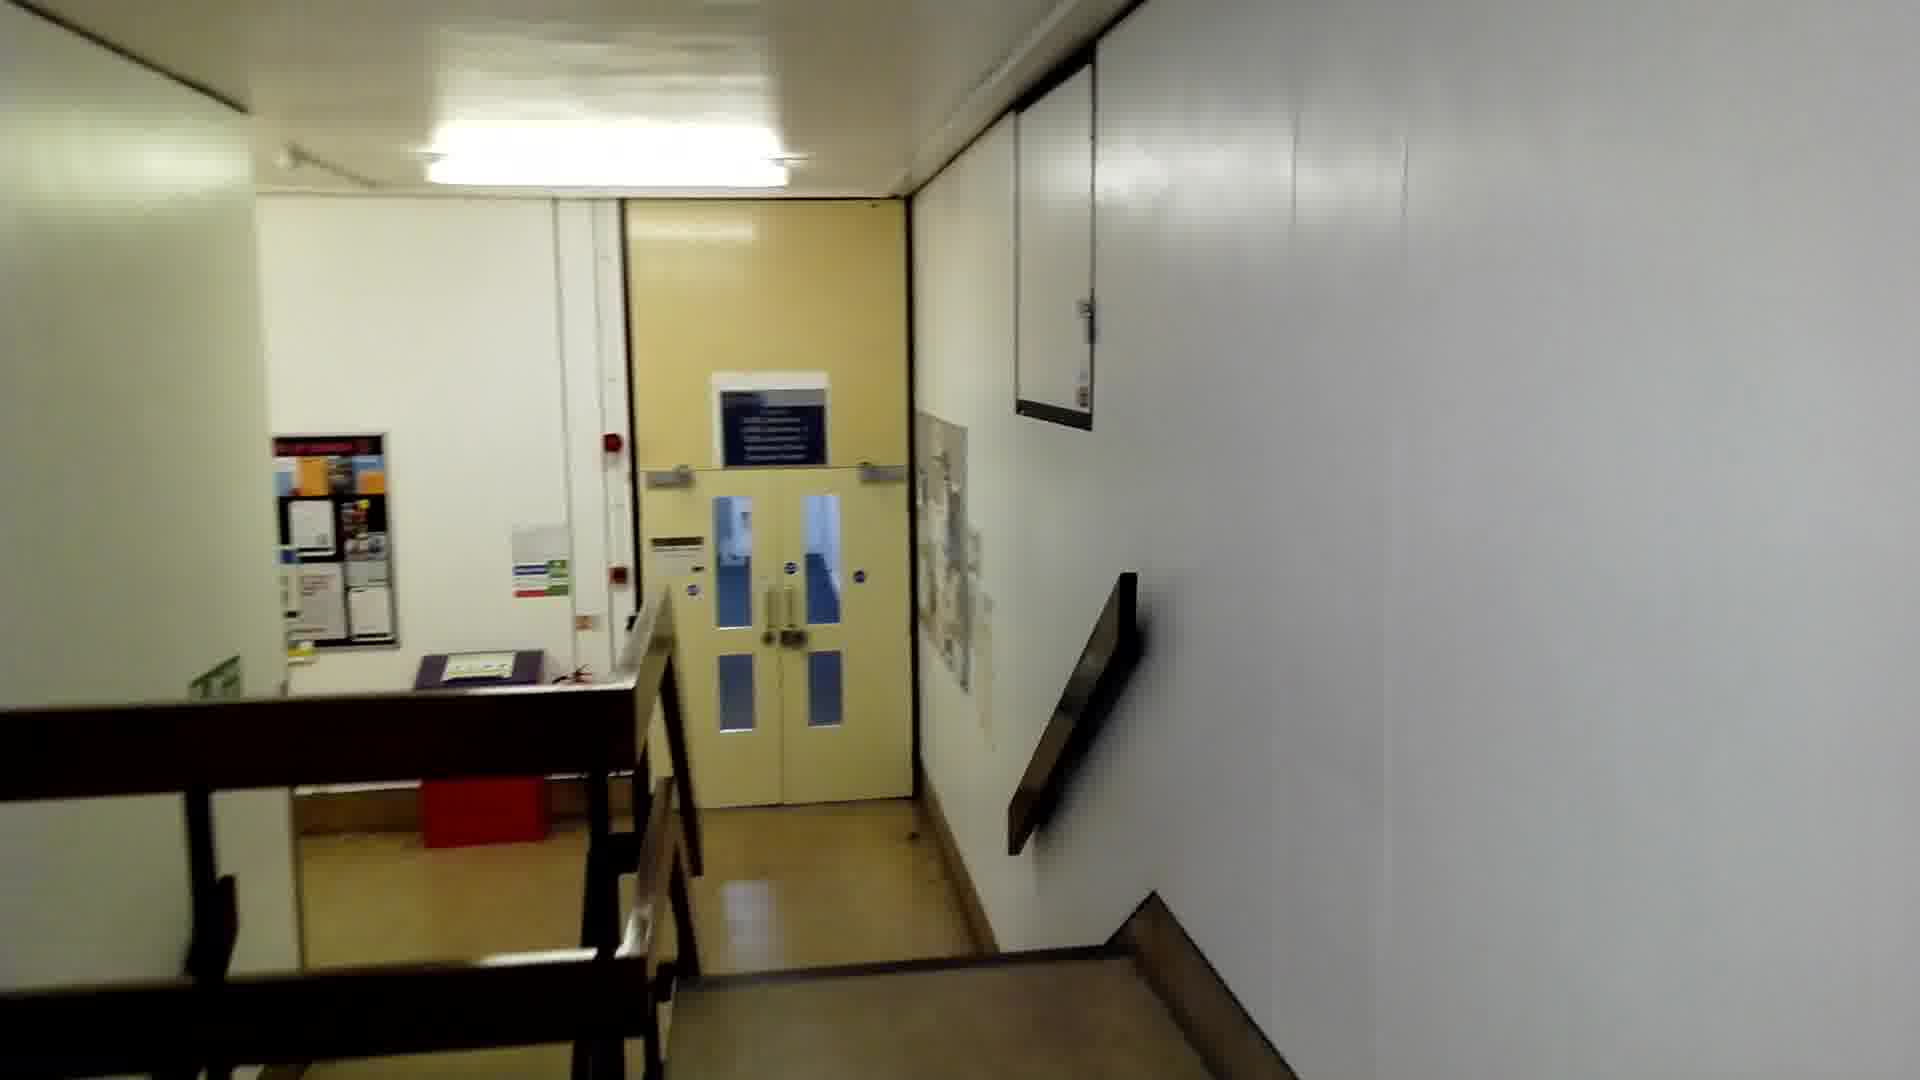Door: (630, 468, 943, 810)
